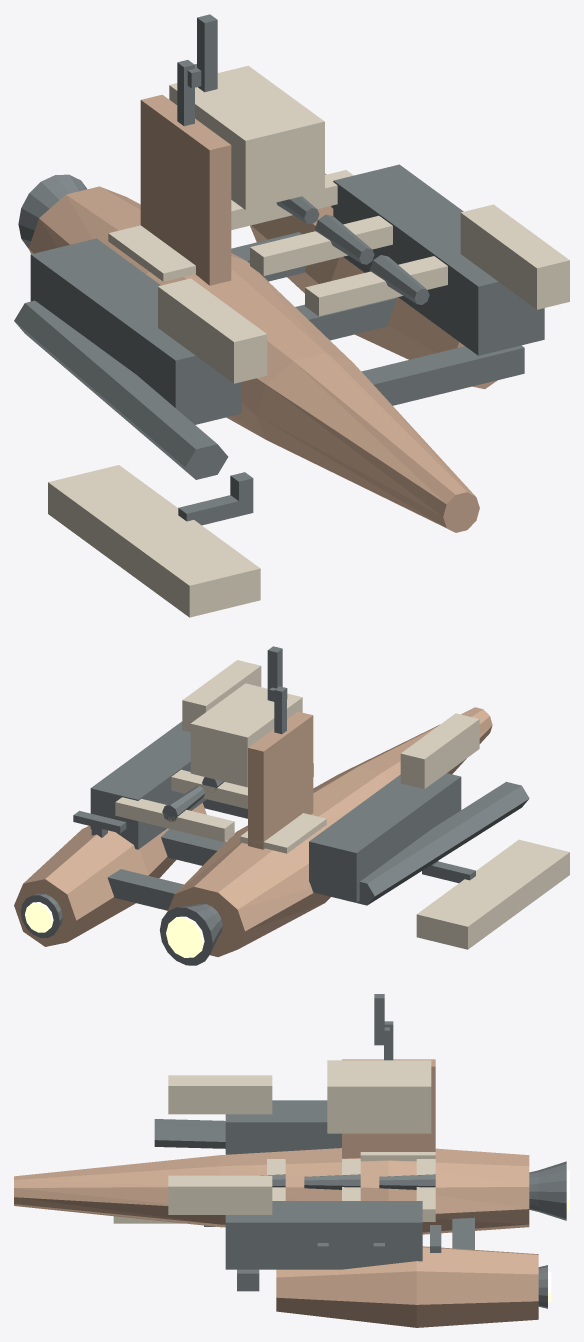
3 renders of one model, top to bottom at view 1: azimuth 30°, elevation 25°; view 2: azimuth 150°, elevation 25°; view 3: azimuth 270°, elevation 25°, orthographic. The views are drawn at different scales.
Bounding box in the file's own units: 14.2 × 11.68 × 21.42.
